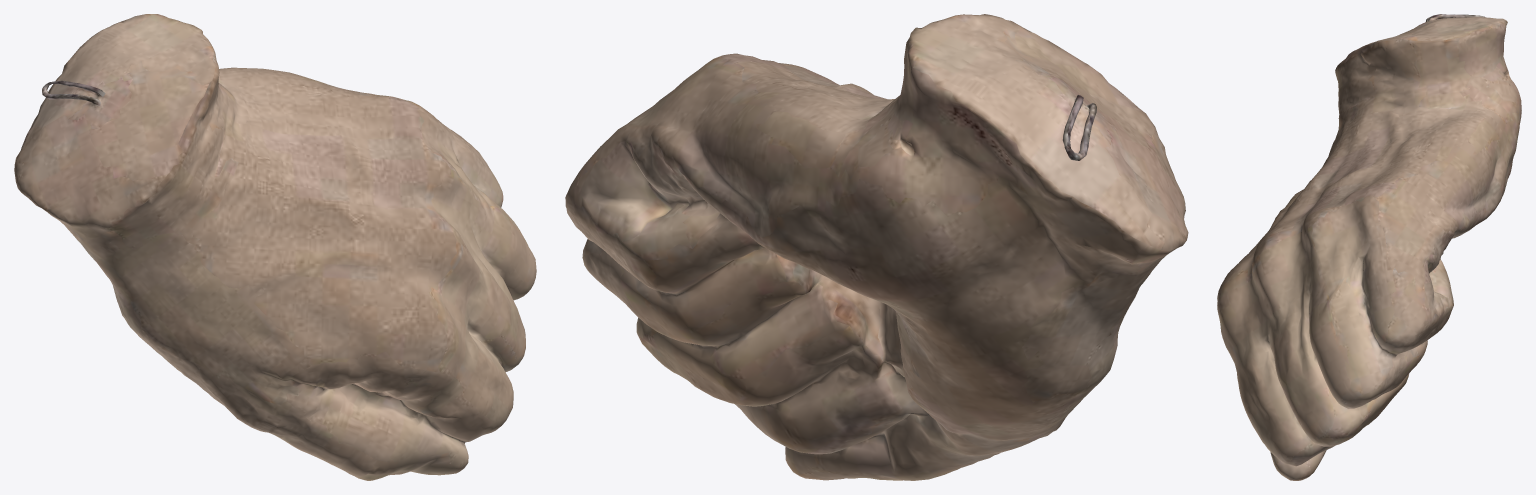
File: npg_71_6_left-hires_unwrapped-20k-512-thumb.glb
3 renders of one model, left to right at view 1: azimuth 30°, elevation 25°; view 2: azimuth 150°, elevation 25°; view 3: azimuth 270°, elevation 25°, orthographic. The views are drawn at different scales.
Bounding box in the file's own units: 164 × 143 × 106.
1 material, 1 textured.
